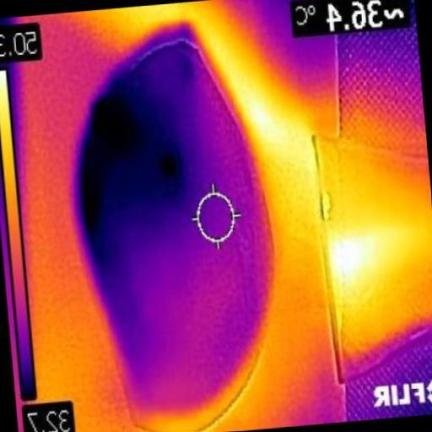mango: (81, 35, 271, 432)
